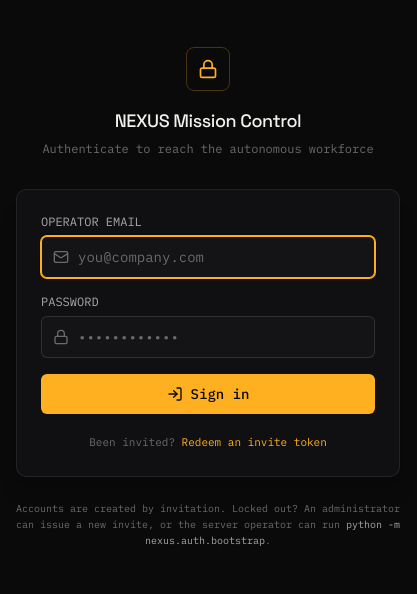
Login accessibility and reliability › announces a server error via role="alert" and moves focus to it
The image size is (417, 594).
Step 1. Type "ops@nvlabs.dev" into the field labelled "Operator Email" → (208, 257), box left=41, top=236, right=375, bottom=278
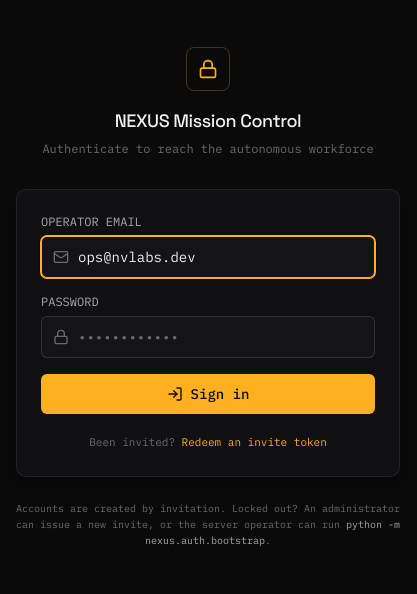
Step 2. Type "correct horse battery staple" into the password field labelled "Password" → (208, 337), box left=41, top=316, right=375, bottom=358
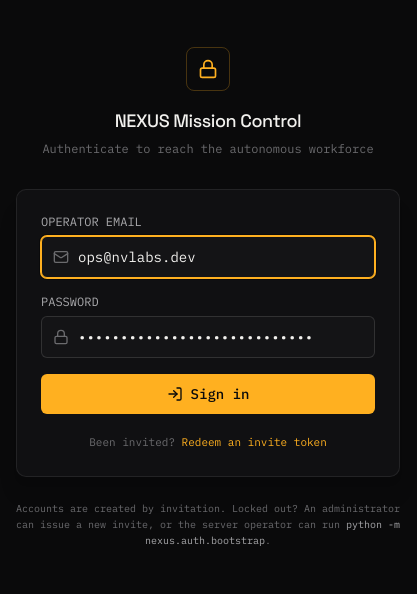
Step 3. Submit the form, box left=16, top=189, right=400, bottom=477
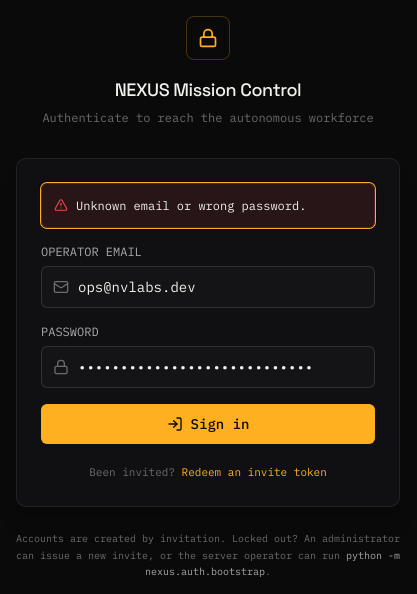
Expected: the message reads "Unknown email or wrong password.", left=76, top=198, right=306, bottom=213
